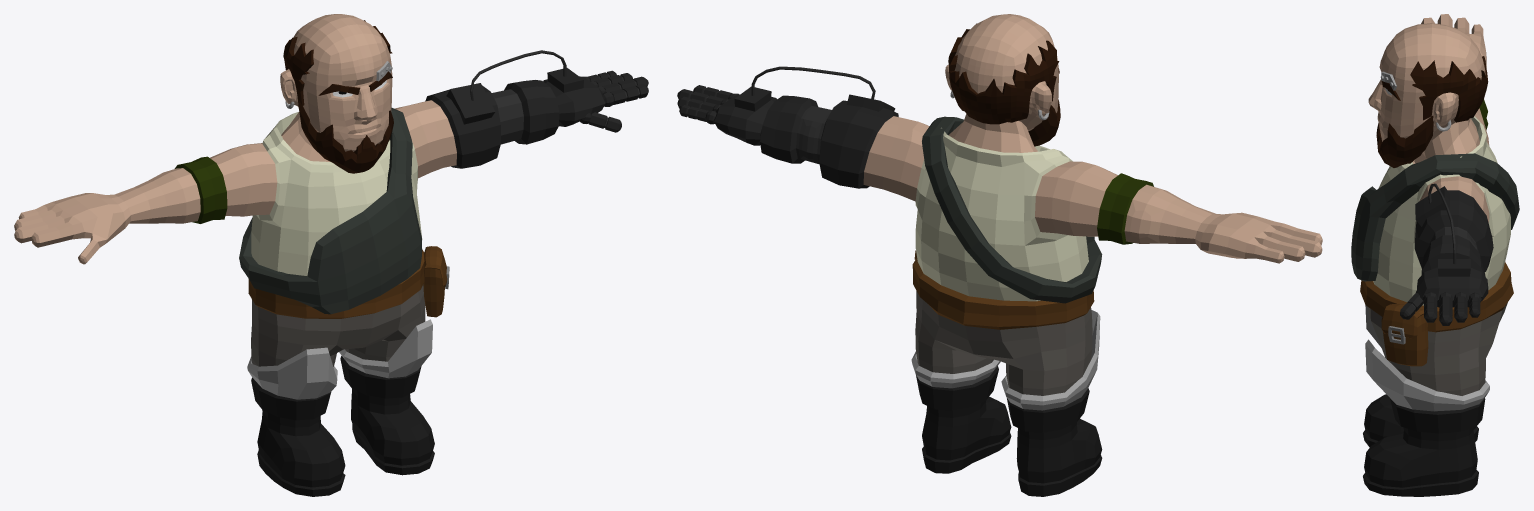
File: MinerTemp - Copy.fbx
3 views of the same model, side by side, from view 1: azimuth 30°, elevation 25°; view 2: azimuth 150°, elevation 25°; view 3: azimuth 270°, elevation 25° (orthographic). The views are drawn at different scales.
Visible parts, largest first — view 1: Minerador; view 2: Minerador; view 3: Minerador.
Part boxes in pixels (bbox=[...]): Minerador: bbox=[14, 14, 648, 496]; Minerador: bbox=[677, 14, 1322, 496]; Minerador: bbox=[1351, 14, 1519, 496].
Size of the model in its own units: 225 by 150 by 52.63.
